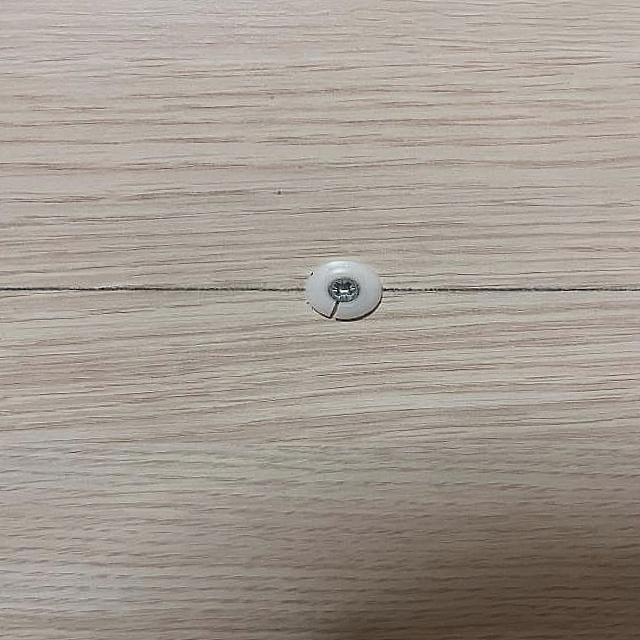pozidriv: (327, 276, 361, 302)
